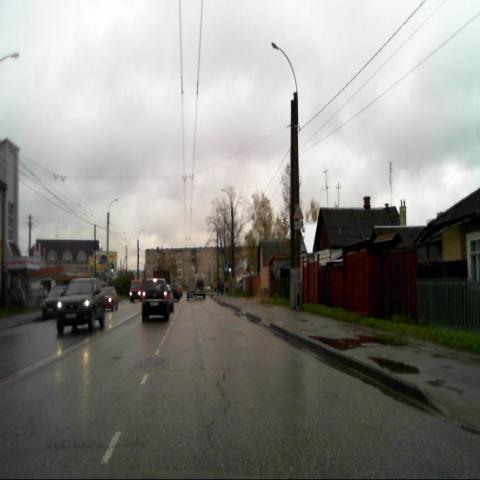1_23: (293, 204, 303, 220)
